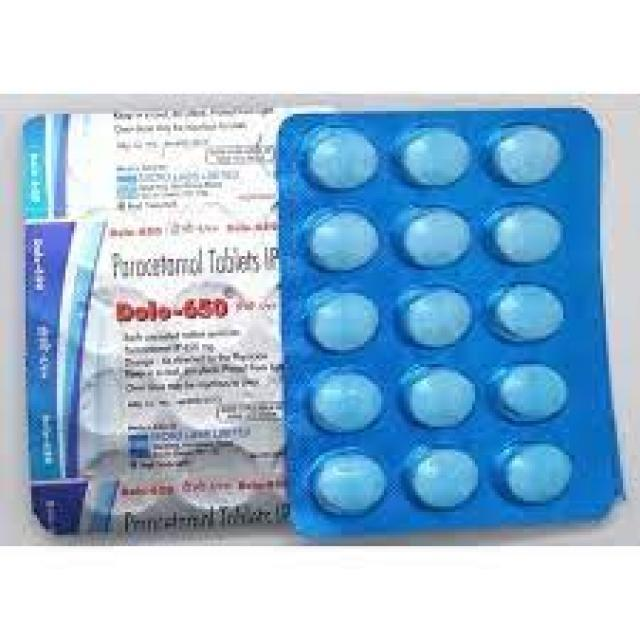authentic: (272, 100, 638, 538), (7, 100, 284, 542)
